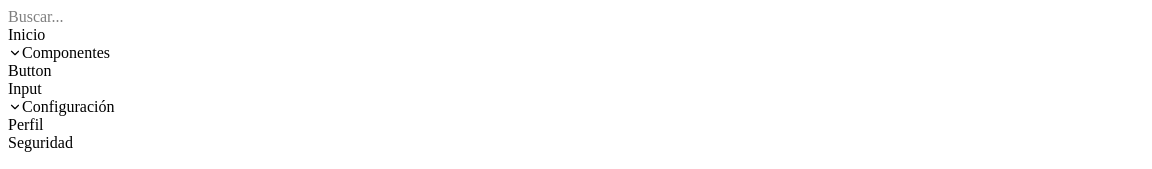
Test: Navbar — búsqueda › filtra por label, conservando las ramas con match y descartando las ajenas
Step 1. Type "button" into the field with placeholder "Buscar..." → {"x": 576, "y": 17}, box [8,8,1144,26]
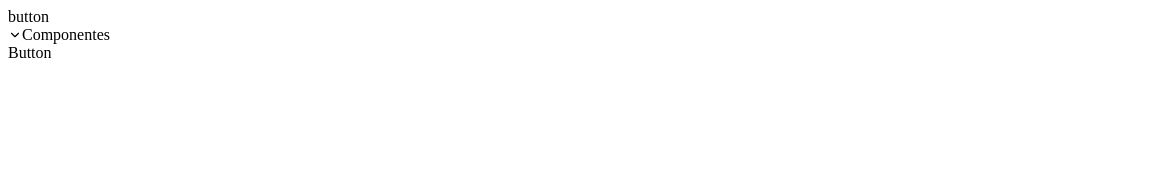
Check: the text "Button" is shown, box [8,44,52,62]
Check: the text "Inicio" is gone
Check: the text "Seguridad" is gone
